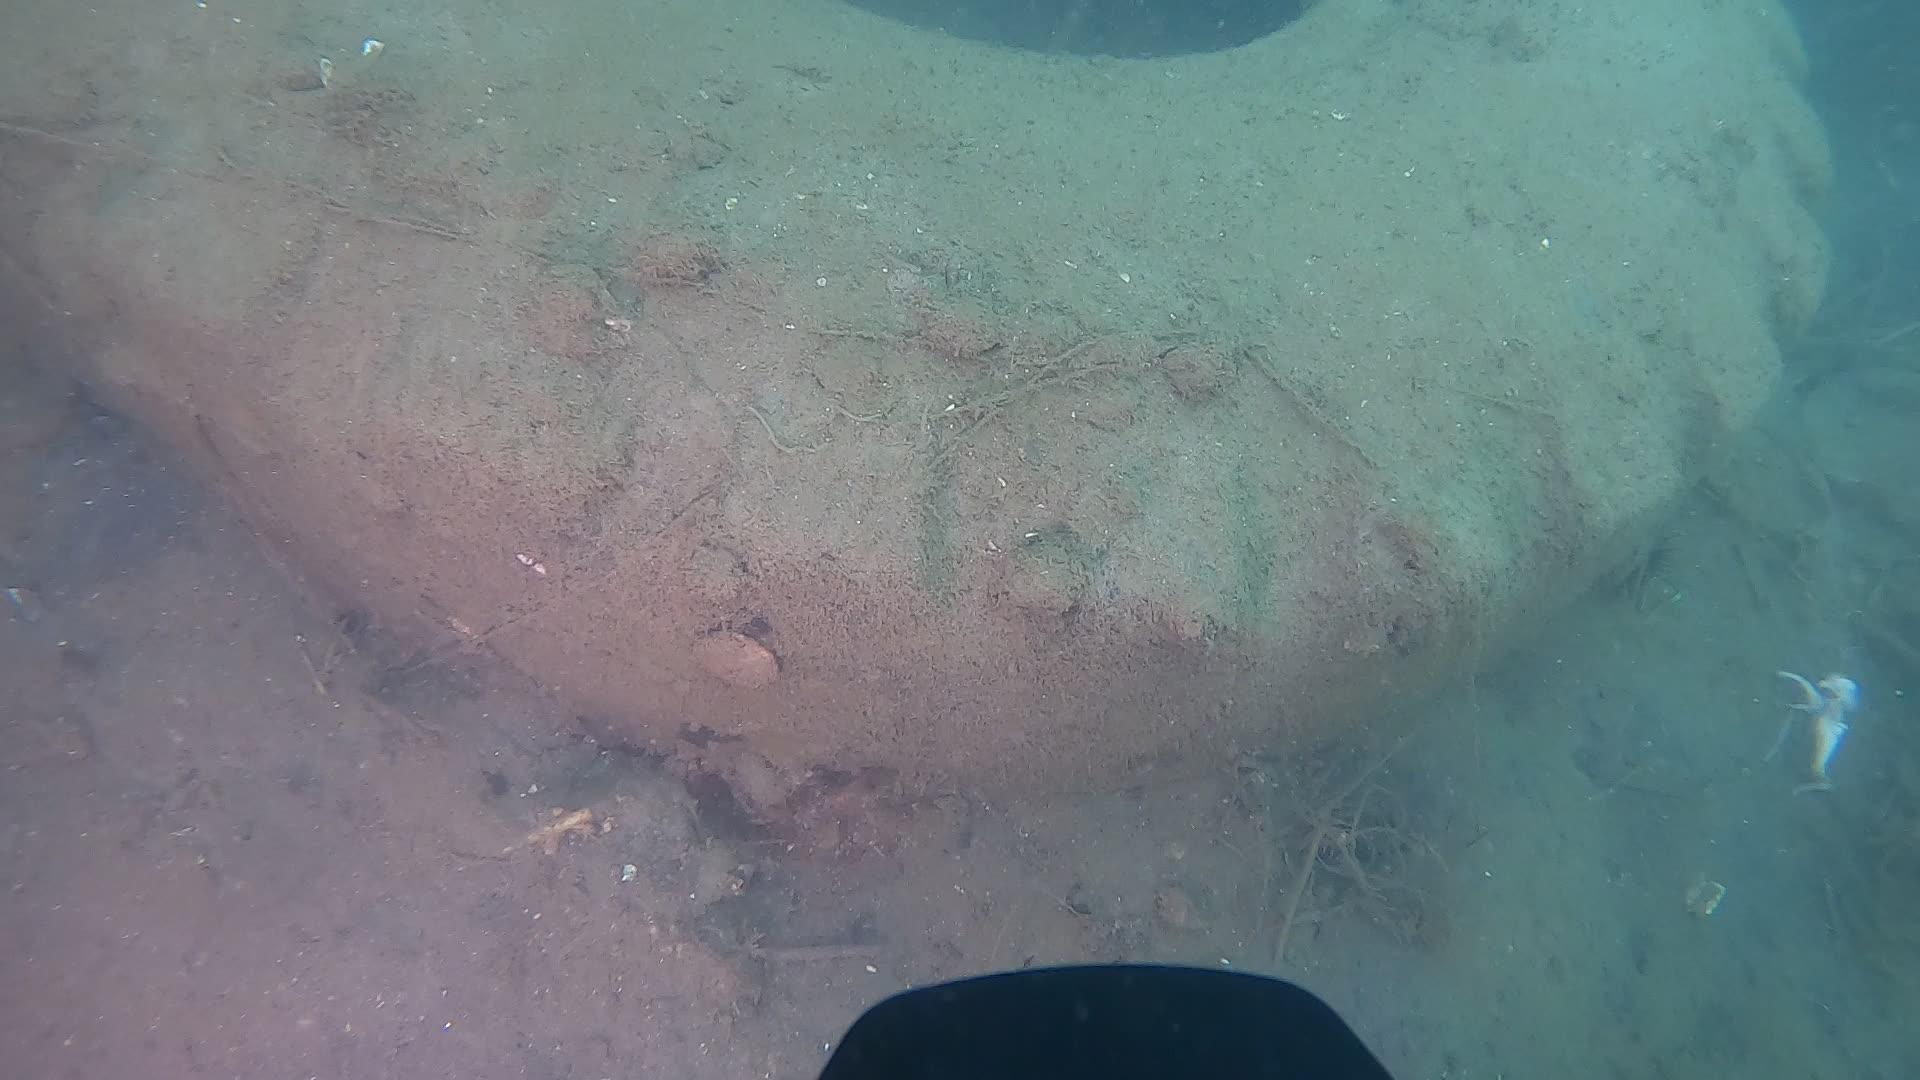tire: (0, 0, 1833, 782)
